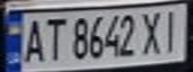2: (118, 10, 139, 58)
4: (103, 11, 124, 58)
6: (87, 12, 109, 60)
8: (66, 14, 90, 61)
A: (18, 15, 48, 64)
I: (157, 7, 187, 54)
T: (39, 15, 66, 63)
Y: (139, 8, 166, 56)
